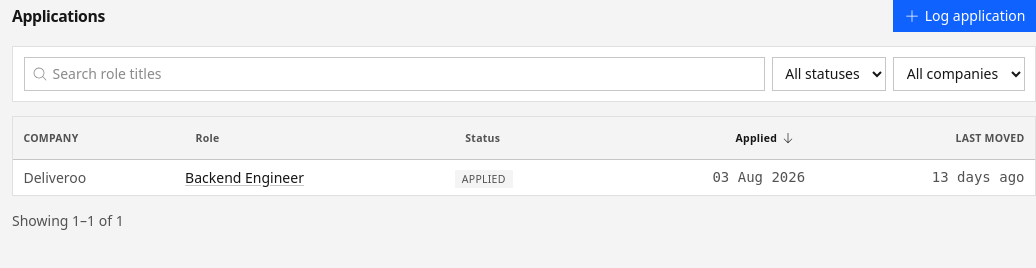
Test: ApplicationsPage › toggles sort direction when the sorted column is clicked again
expect the link "Backend Engineer" is shown: met, box [185,168,304,187]
Click the button "Status". click: click(520, 138)
box: [455,124,586,152]
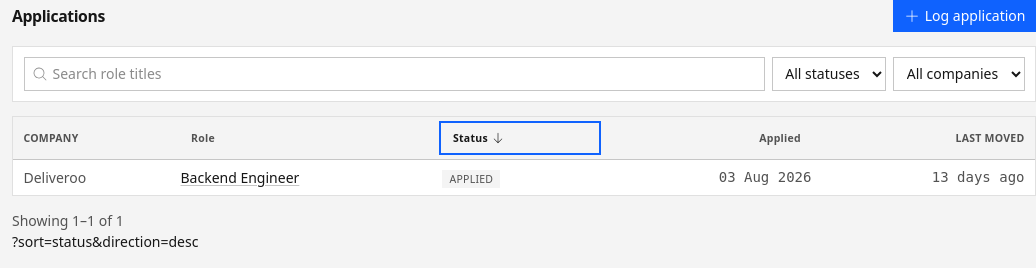
expect the text with test id "search-params" shows "direction=desc": met, box [12,232,198,251]
Click the button "Status". click: click(520, 138)
box: [442,124,598,152]
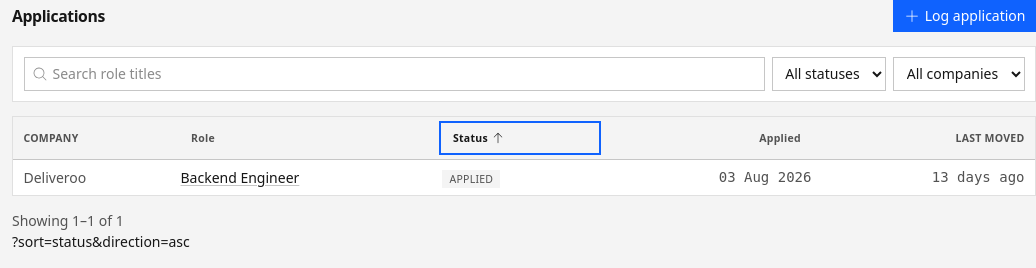
expect the text with test id "search-params" shows "direction=asc": met, box [12,232,190,251]
